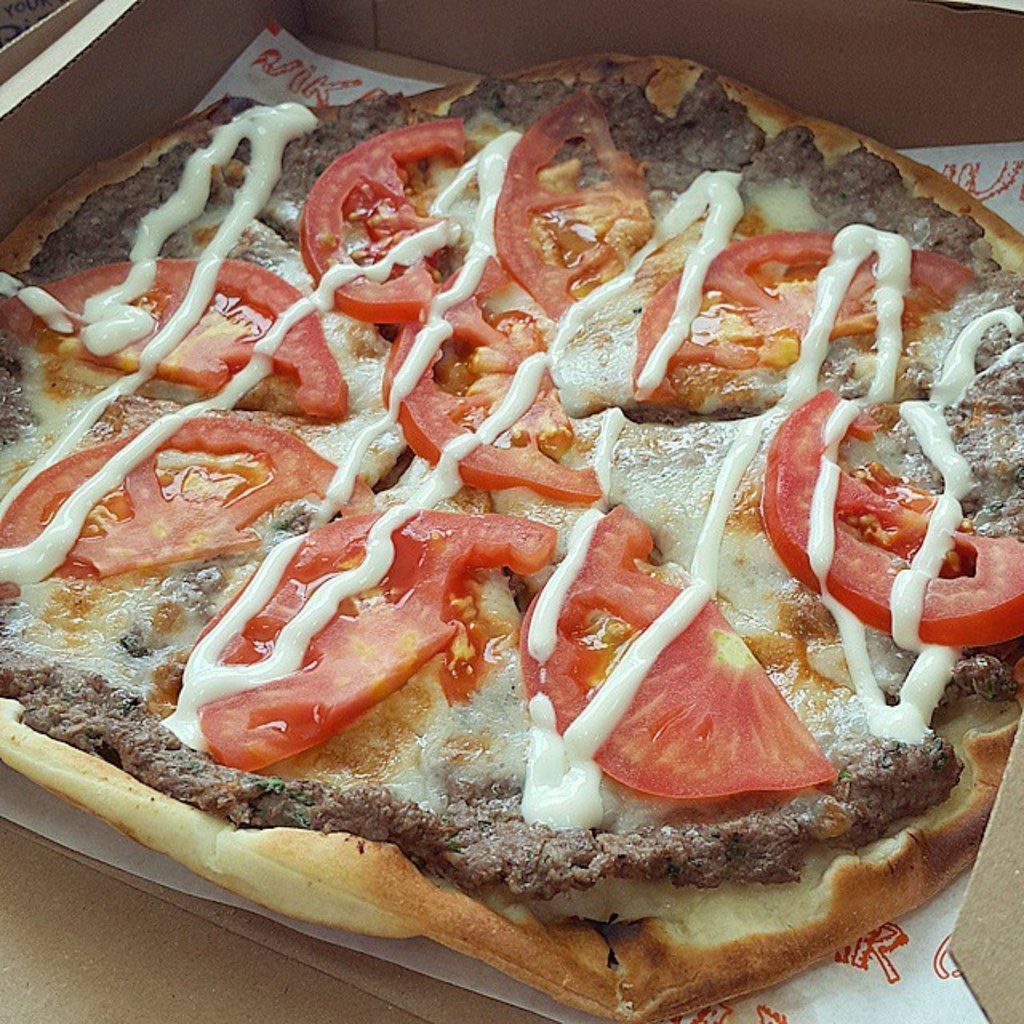Pizza: (0, 54, 1022, 1022)
